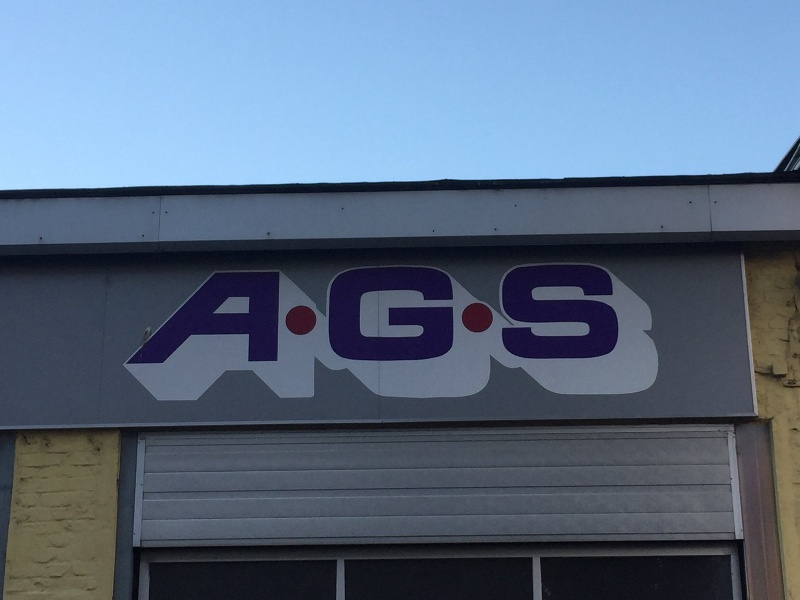text: (337, 265, 352, 363), (353, 265, 368, 363), (369, 265, 384, 363), (385, 265, 400, 363), (401, 265, 416, 363), (417, 265, 432, 363), (433, 265, 448, 363), (497, 266, 512, 362), (513, 266, 528, 362), (529, 266, 544, 362), (545, 266, 560, 362), (561, 266, 576, 362), (577, 266, 592, 362), (593, 266, 608, 362), (225, 271, 240, 365), (241, 271, 256, 365), (257, 271, 272, 365), (609, 266, 622, 362), (326, 265, 336, 363), (273, 271, 281, 365), (449, 265, 456, 363), (218, 271, 224, 365)
